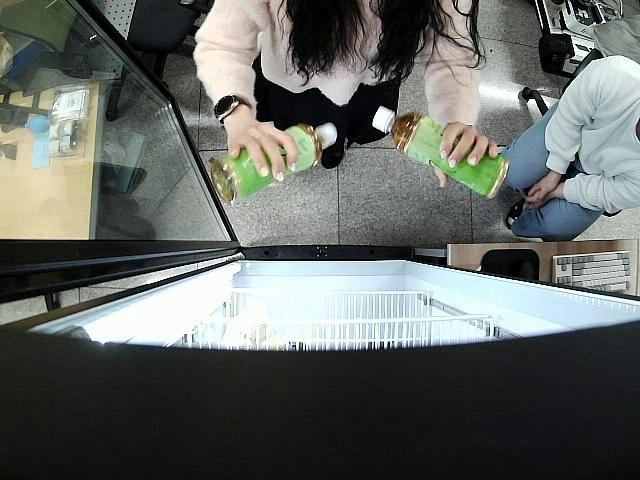19_17cha: (372, 106, 510, 199), (210, 123, 338, 202)
